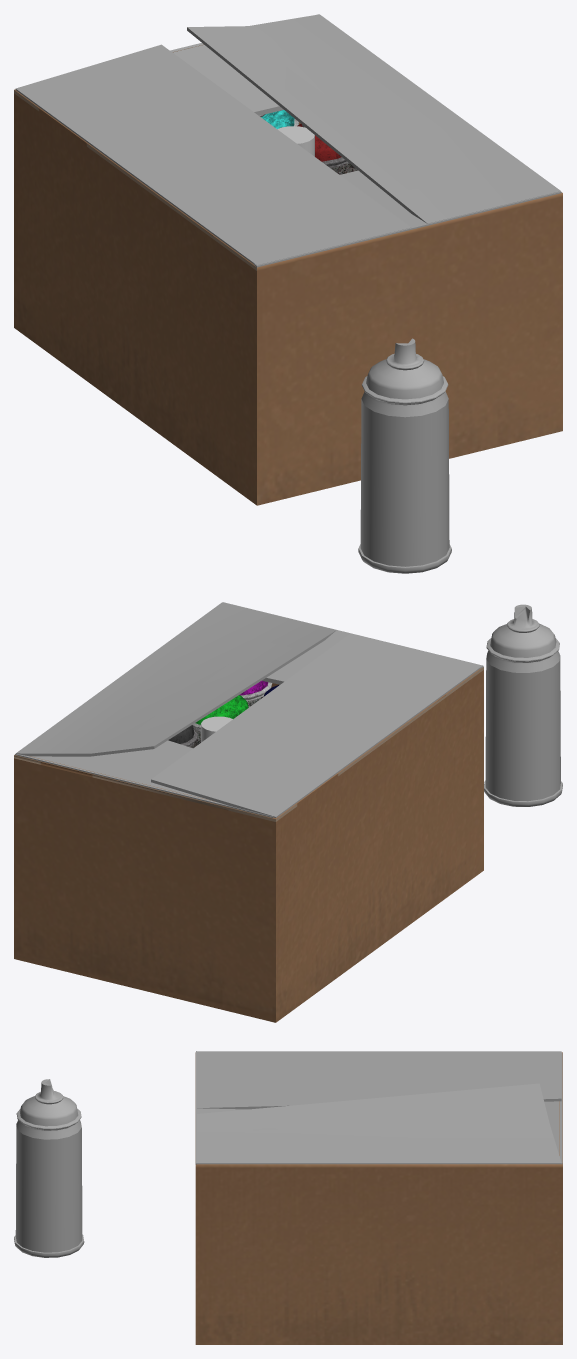
The model's file is GraffityBox.fbx.
The picture shows the model from 3 angles, top to bottom: view 1: azimuth 30°, elevation 25°; view 2: azimuth 150°, elevation 25°; view 3: azimuth 270°, elevation 25°; orthographic projection. The views are drawn at different scales.
Visible parts, largest first — view 1: pCube2, pCube4, pCube3, pCylinder26, pCube5, pCube6, pCylinder35; view 2: pCube2, pCube4, pCube3, pCylinder26, pCube5, pCube6, pCylinder28; view 3: pCube2, pCube3, pCube4, pCylinder26, pCube5.
Boxes of the visible parts, bbox=[...] form: pCube2: bbox=[14, 44, 562, 505]; pCube4: bbox=[15, 44, 411, 265]; pCube3: bbox=[187, 14, 560, 223]; pCylinder26: bbox=[358, 338, 451, 573]; pCube5: bbox=[170, 14, 318, 115]; pCube6: bbox=[253, 170, 561, 270]; pCylinder35: bbox=[297, 124, 357, 174]; pCube2: bbox=[14, 667, 483, 1022]; pCube4: bbox=[151, 633, 482, 817]; pCube3: bbox=[16, 602, 336, 756]; pCylinder26: bbox=[484, 604, 562, 806]; pCube5: bbox=[15, 740, 273, 817]; pCube6: bbox=[223, 602, 483, 684]; pCylinder28: bbox=[192, 695, 249, 744]; pCube2: bbox=[195, 1052, 562, 1344]; pCube3: bbox=[197, 1083, 561, 1164]; pCube4: bbox=[197, 1051, 561, 1109]; pCylinder26: bbox=[14, 1079, 84, 1257]; pCube5: bbox=[544, 1052, 562, 1164].
Bounding box in the file's own units: 7.42 × 6.38 × 15.25.
